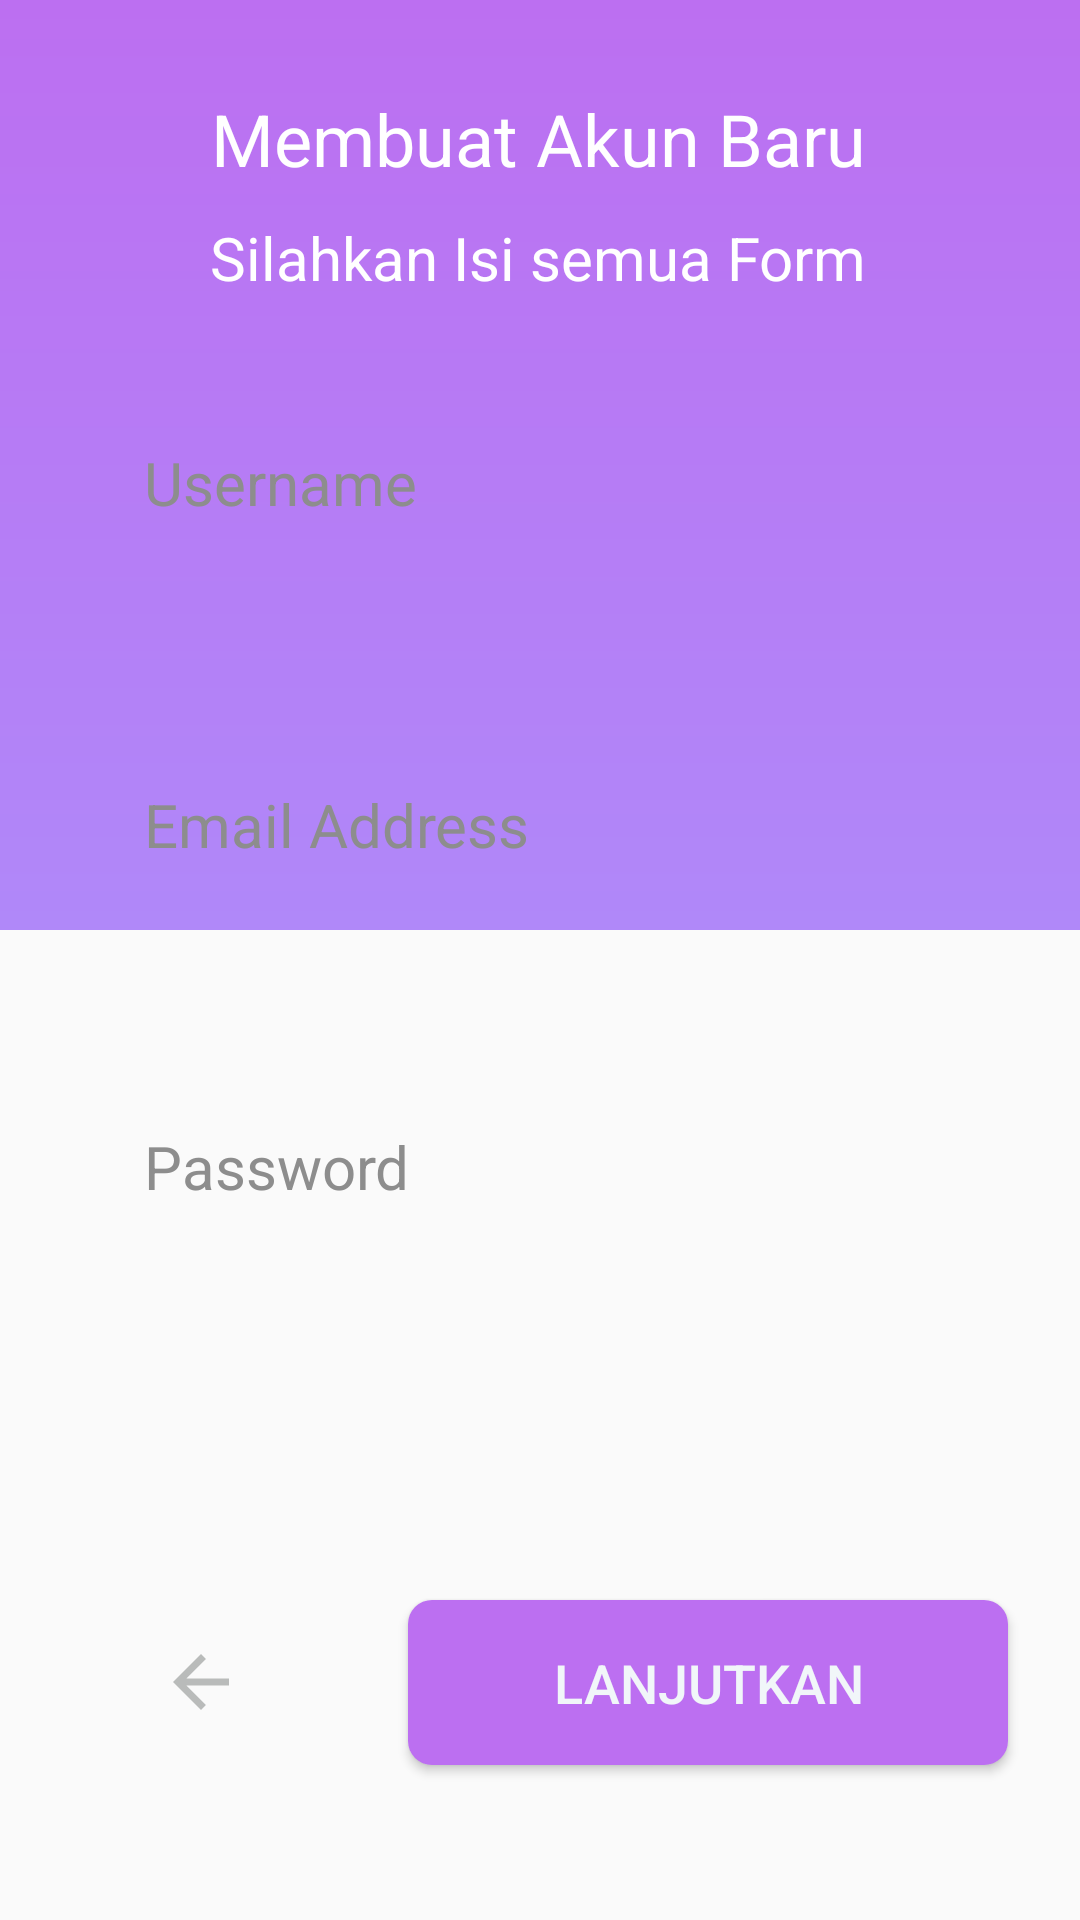

Locate icon controls on the screen. Image size 1080 × 1920, boxes as region(x1, y1, x2, y2).
back: region(173, 1654, 229, 1710)
